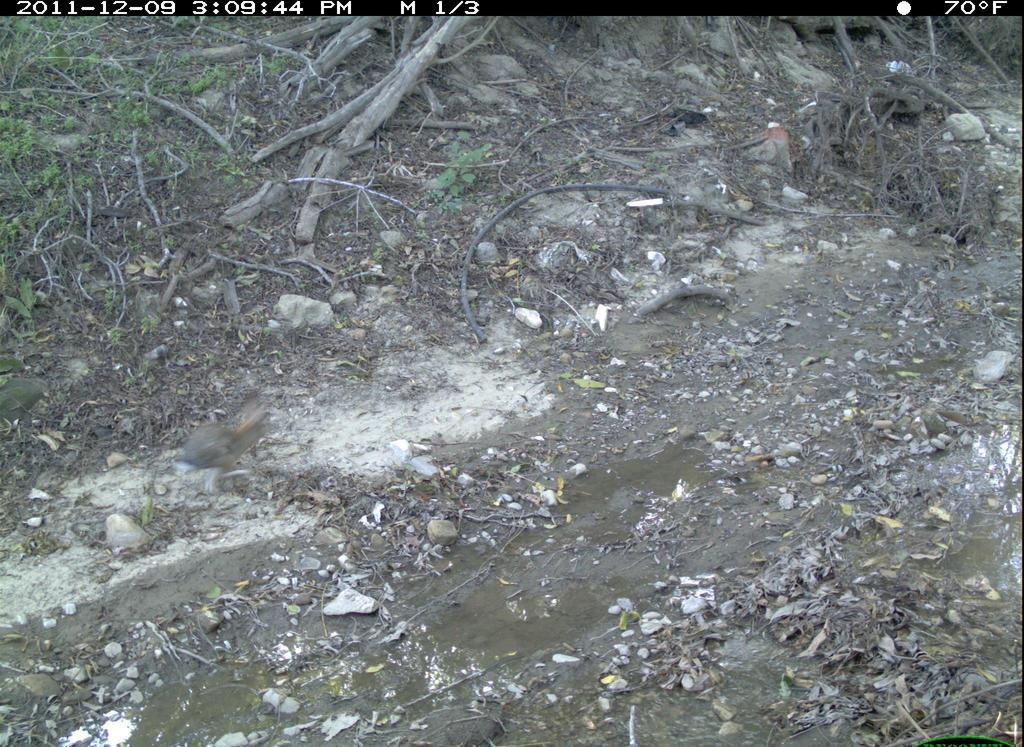rabbit: (168, 379, 272, 492)
